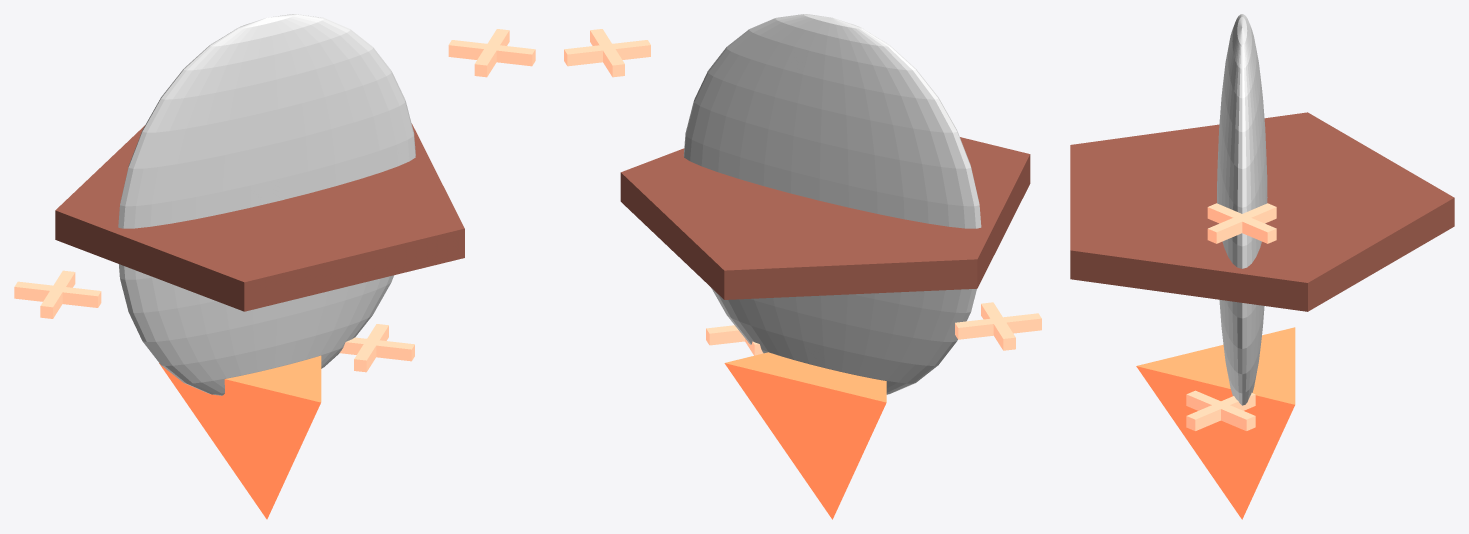
The model's file is pain-point.glb.
The picture shows the model from 3 angles, left to right: view 1: azimuth 30°, elevation 25°; view 2: azimuth 150°, elevation 25°; view 3: azimuth 270°, elevation 25°; orthographic projection.
Visible parts, largest first — view 1: Cracked_Shield, Broken_Star, Down_Arrow, X_Mark_1_b, X_Mark_0_b, X_Mark_2_b, X_Mark_0_a, X_Mark_2_a, X_Mark_1_a; view 2: Cracked_Shield, Broken_Star, Down_Arrow, X_Mark_0_a, X_Mark_1_a, X_Mark_1_b, X_Mark_0_b, X_Mark_2_a; view 3: Broken_Star, Down_Arrow, Cracked_Shield, X_Mark_0_a, X_Mark_2_a, X_Mark_0_b, X_Mark_2_b.
Part boxes in pixels (x1,y1,x2,y2): Cracked_Shield: (118, 14, 415, 395); Broken_Star: (55, 123, 464, 311); Down_Arrow: (159, 355, 321, 519); X_Mark_1_b: (14, 281, 101, 307); X_Mark_0_b: (448, 40, 535, 66); X_Mark_2_b: (339, 337, 414, 361); X_Mark_0_a: (474, 29, 509, 77); X_Mark_2_a: (354, 324, 388, 372); X_Mark_1_a: (40, 270, 75, 318); Cracked_Shield: (683, 14, 981, 394); Broken_Star: (620, 137, 1030, 299); Down_Arrow: (724, 352, 886, 519); X_Mark_0_a: (564, 40, 650, 66); X_Mark_1_a: (955, 313, 1041, 339); X_Mark_1_b: (981, 302, 1015, 350); X_Mark_0_b: (590, 29, 624, 77); X_Mark_2_a: (706, 325, 744, 345); Broken_Star: (1070, 112, 1454, 311); Down_Arrow: (1136, 327, 1295, 519); Cracked_Shield: (1217, 14, 1267, 405); X_Mark_0_a: (1207, 203, 1276, 243); X_Mark_2_a: (1186, 390, 1255, 430); X_Mark_0_b: (1207, 203, 1276, 243); X_Mark_2_b: (1186, 393, 1255, 430).
Size of the model in its own units: 2.53 by 2.56 by 1.81.
